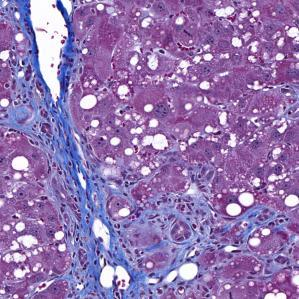fibrosis: (38, 113, 110, 227), (149, 188, 245, 267), (68, 237, 148, 299)
